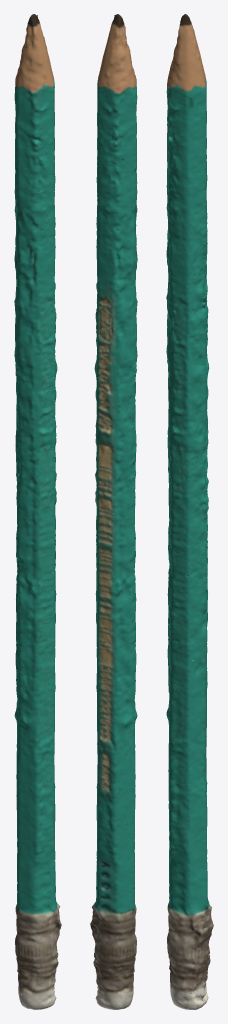
The model's file is Pen.fbx.
The picture shows the model from 3 angles, left to right: view 1: azimuth 30°, elevation 25°; view 2: azimuth 150°, elevation 25°; view 3: azimuth 330°, elevation 25°; orthographic projection.
Visible parts, largest first — view 1: pen; view 2: pen; view 3: pen.
Boxes of the visible parts, left/top/right/bottom form: pen: left=14, top=14, right=61, bottom=1009; pen: left=90, top=14, right=137, bottom=1009; pen: left=166, top=14, right=213, bottom=1009.
Size of the model in its own units: 0.8263 by 18.7 by 0.7419.
Materials: 1 (1 with a texture image).
